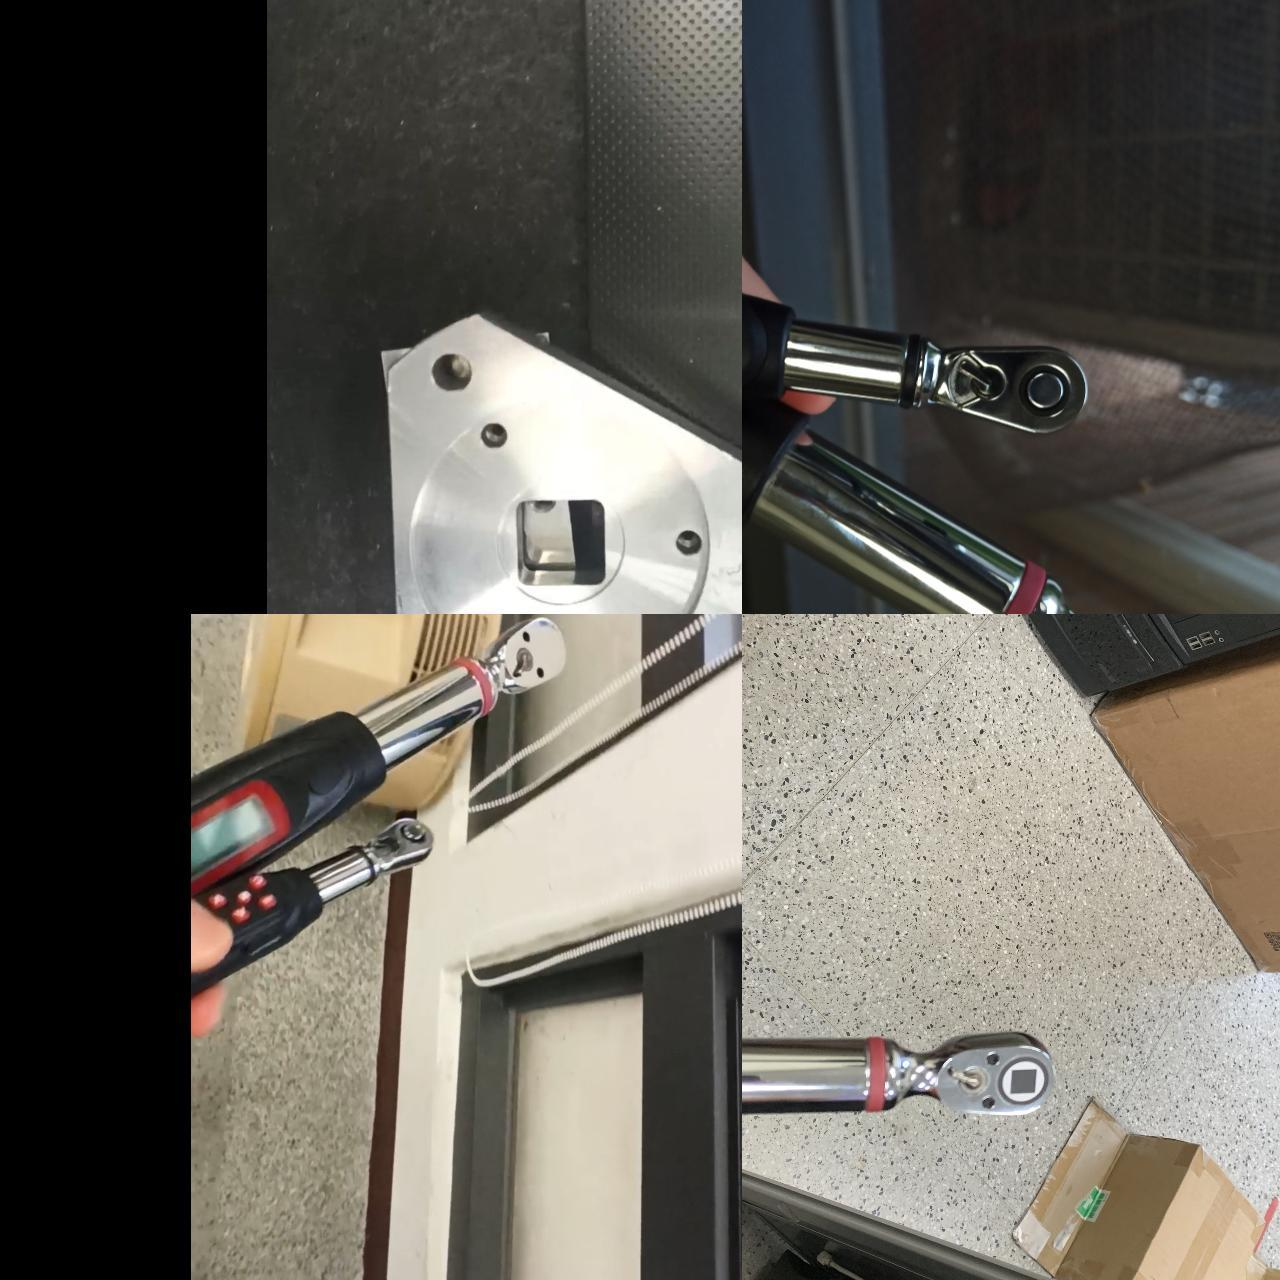Tool: (908, 326, 1088, 443), (885, 1024, 1053, 1120), (484, 614, 567, 696), (349, 819, 435, 876)
